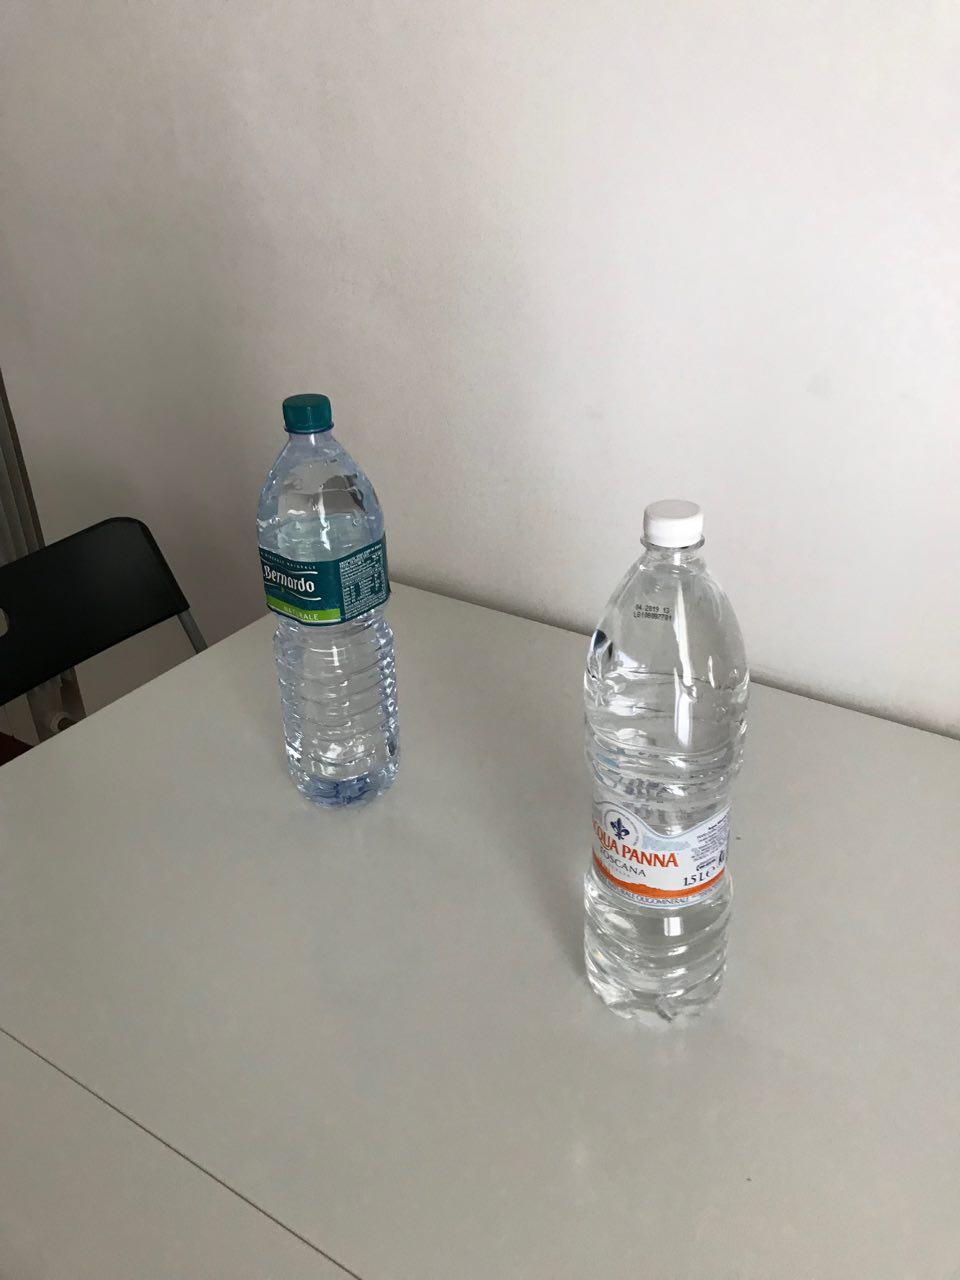san_bernardo: (255, 391, 400, 810)
